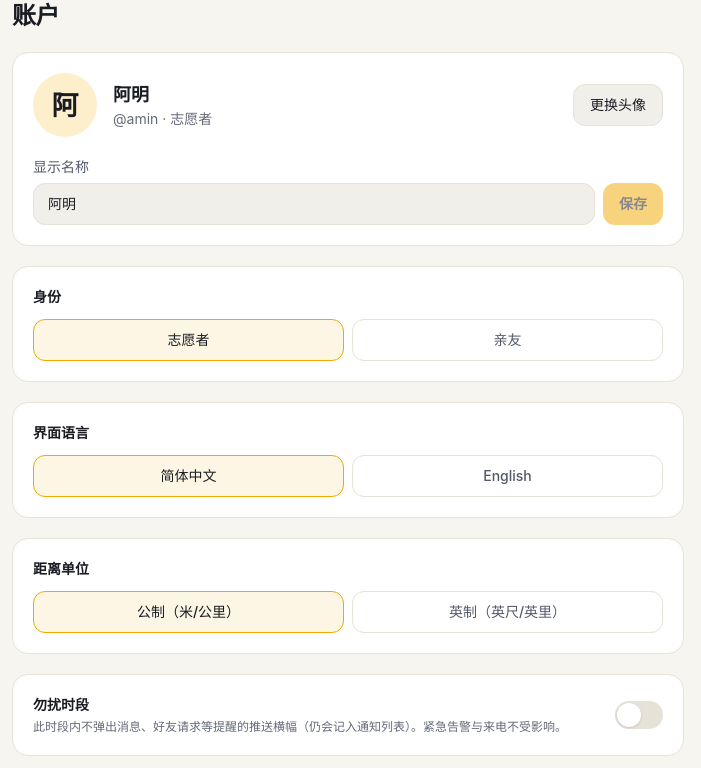
Test: AccountPage 资料渲染（防字段漂移） › 勿扰时段：开关切换即保存并回显；已配置则回填时间
Step 1. Click the switch named "勿扰时段" → (639, 715), box left=615, top=701, right=663, bottom=729
(page scrolled)
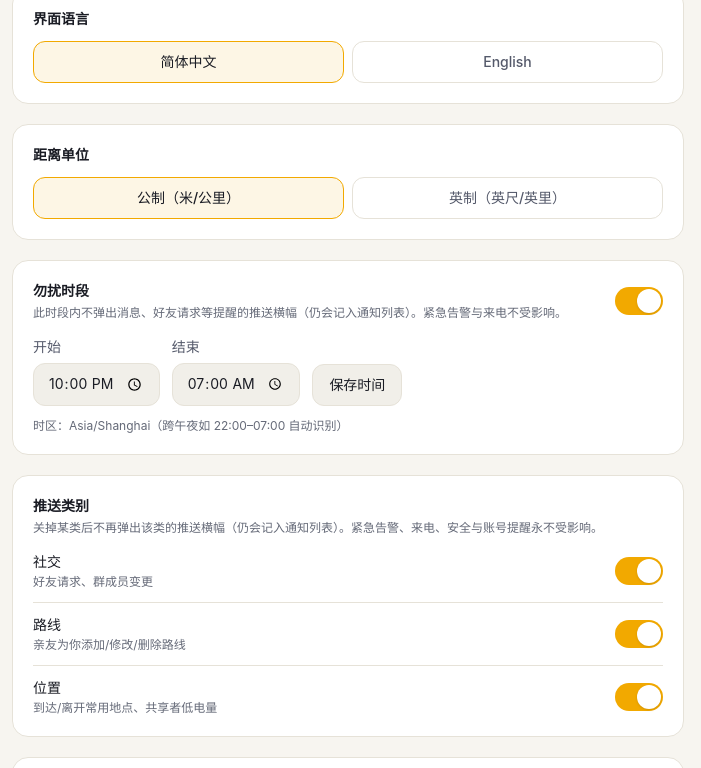
Now the time field named "勿扰开始时间" holds "22:00", box left=33, top=363, right=160, bottom=406
Now the time field named "勿扰结束时间" holds "07:00", box left=172, top=363, right=300, bottom=406
